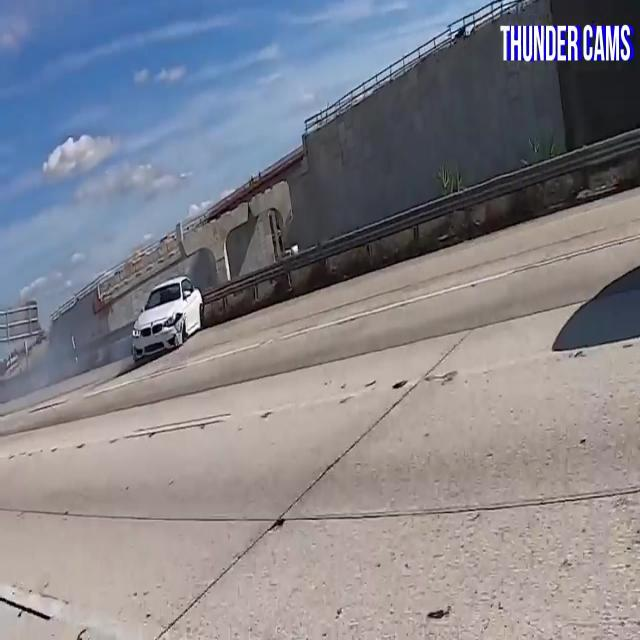accident: (122, 272, 212, 364)
